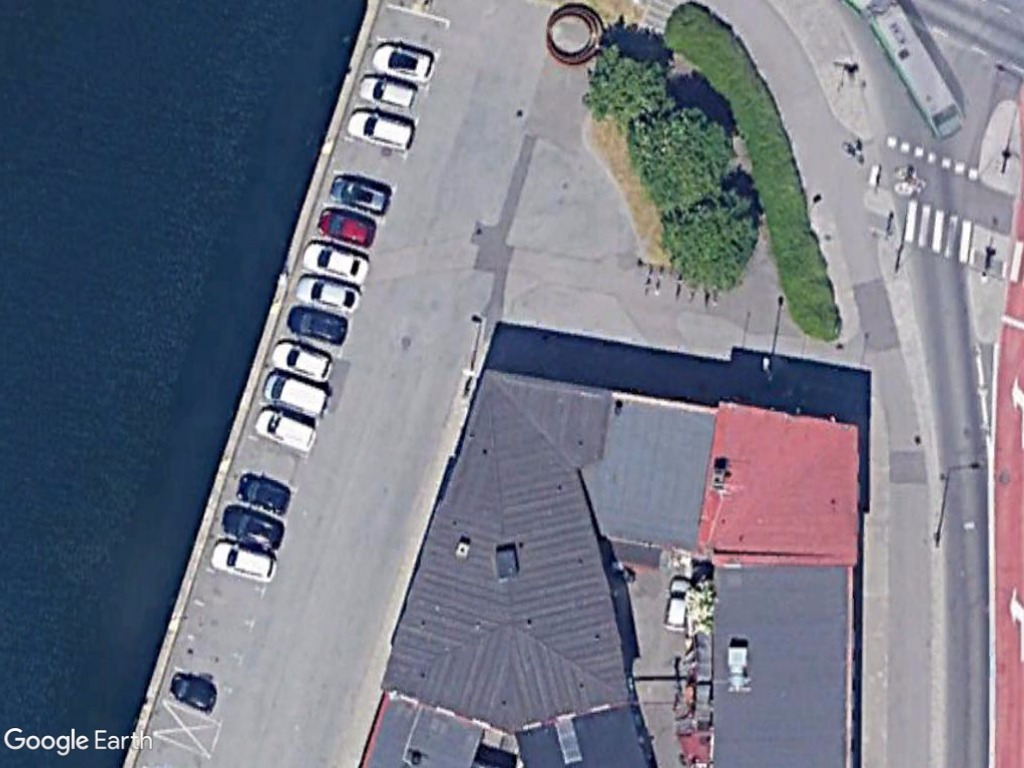car: (205, 537, 283, 588), (217, 501, 288, 554), (296, 237, 374, 285), (344, 107, 423, 154), (252, 404, 321, 457), (289, 269, 365, 316), (281, 300, 354, 348), (354, 67, 424, 116), (229, 469, 298, 518), (324, 173, 397, 219), (266, 338, 339, 384), (368, 40, 441, 85), (311, 204, 380, 249), (163, 669, 223, 714)
van: (259, 372, 331, 419)
